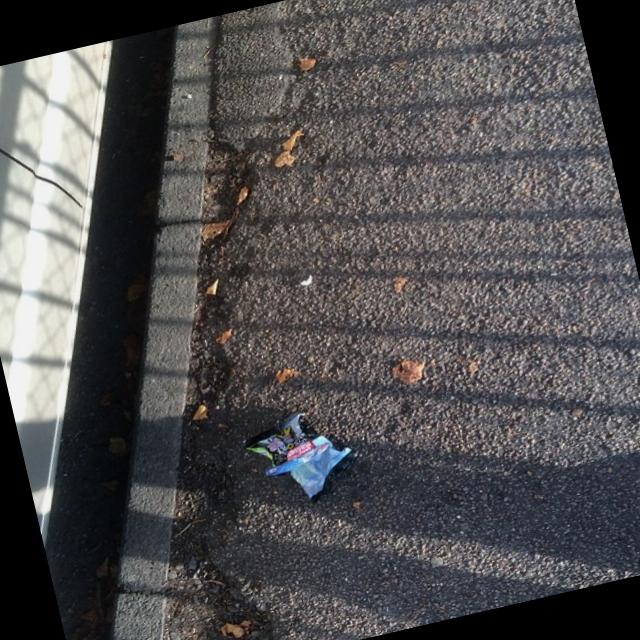Trash: (244, 405, 364, 514)
